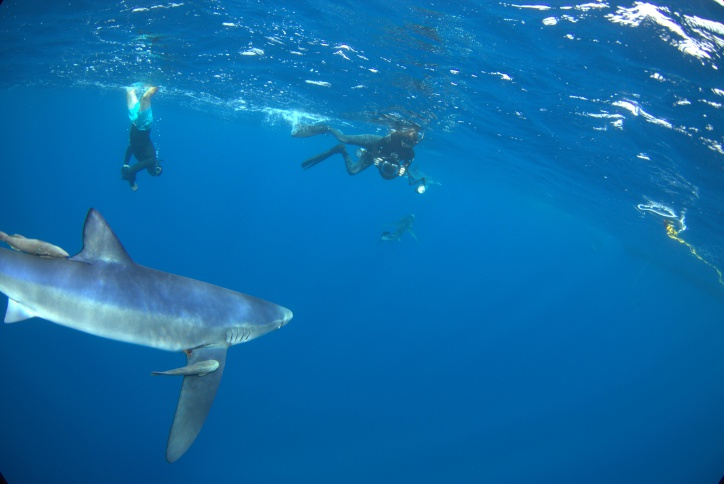Azul: (1, 196, 328, 468)
